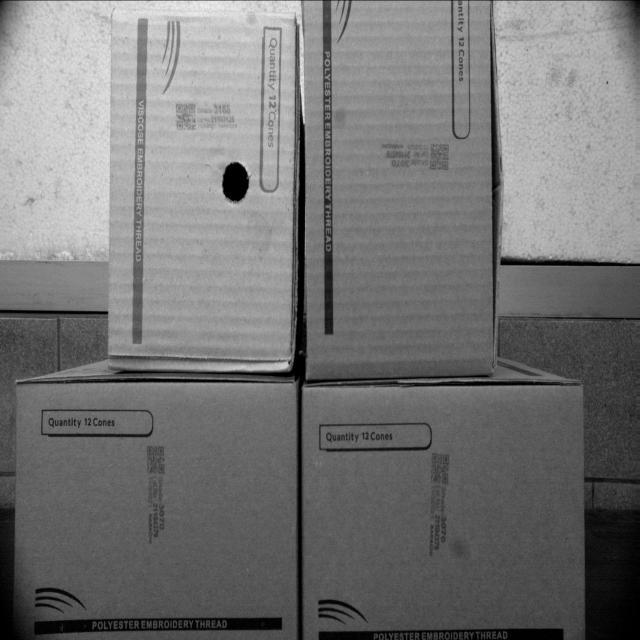box: (296, 0, 499, 377), (302, 380, 586, 640), (15, 383, 296, 639), (108, 2, 294, 374)
